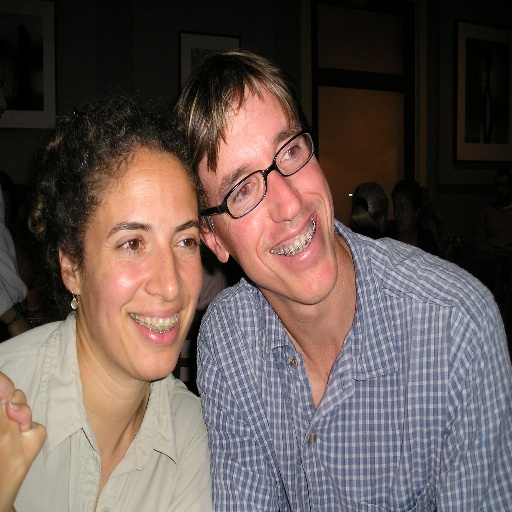hand: (1, 396, 38, 489), (0, 368, 33, 430)
